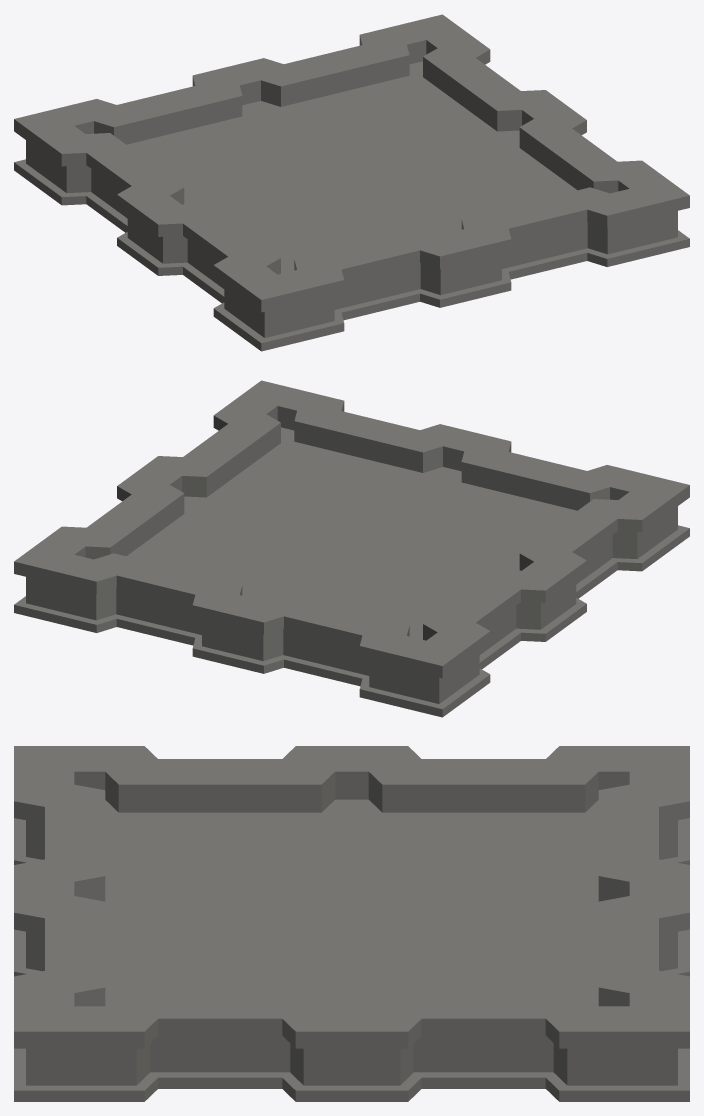
File: SM_Bldg_City_High-Rise_04_05_Roof_01.fbx
3 views of the same model, one above another, from view 1: azimuth 30°, elevation 25°; view 2: azimuth 150°, elevation 25°; view 3: azimuth 270°, elevation 25° (orthographic). The views are drawn at different scales.
Visible parts, largest first — view 1: SM_Bldg_City_High-Rise_04&05_Roof_01; view 2: SM_Bldg_City_High-Rise_04&05_Roof_01; view 3: SM_Bldg_City_High-Rise_04&05_Roof_01.
Boxes of the visible parts, x1=… form: SM_Bldg_City_High-Rise_04&05_Roof_01: x1=14, y1=14, x2=689, y2=351; SM_Bldg_City_High-Rise_04&05_Roof_01: x1=14, y1=380, x2=689, y2=717; SM_Bldg_City_High-Rise_04&05_Roof_01: x1=14, y1=746, x2=689, y2=1101.
Bounding box in the file's own units: 1090 × 125 × 1090.
